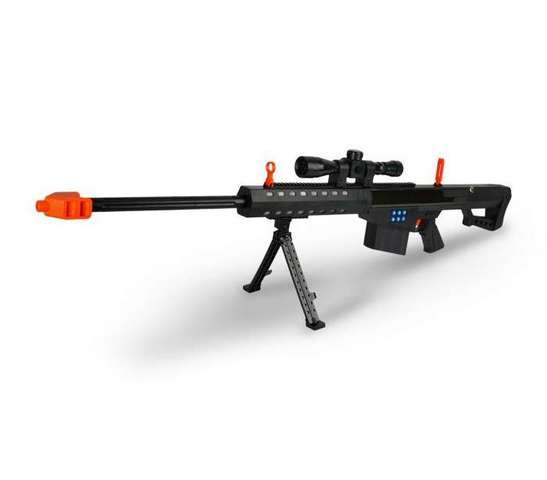Arma Falsa: (32, 148, 519, 347)
